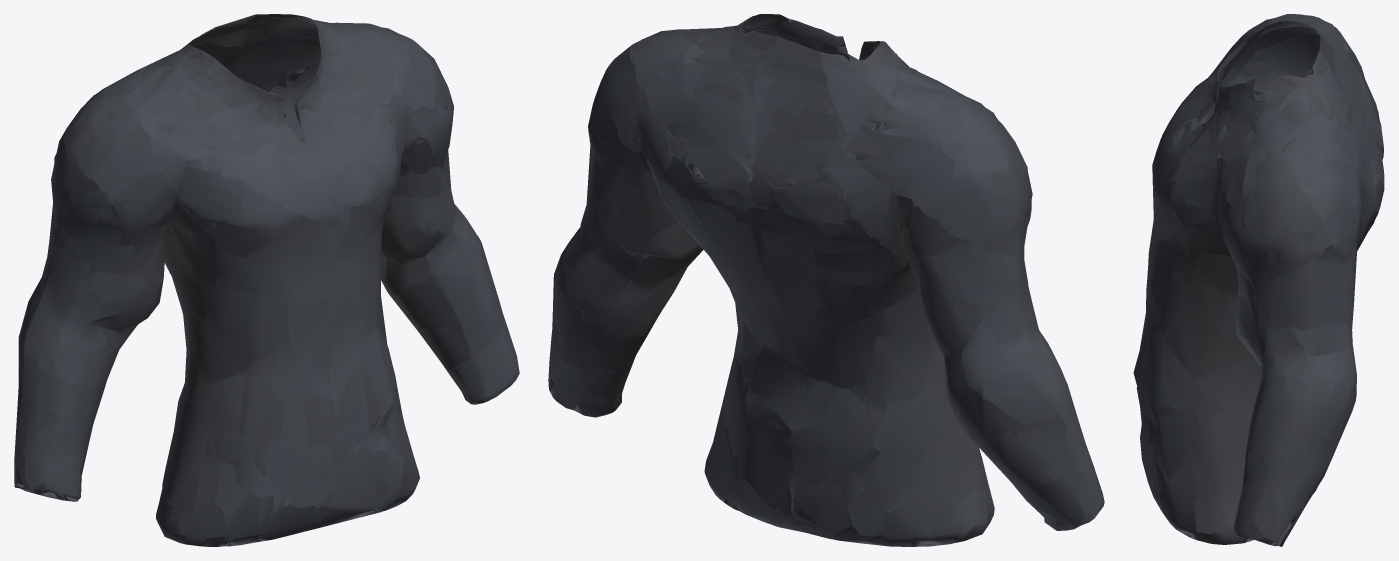
File: tunic.glb
3 views of the same model, side by side, from view 1: azimuth 30°, elevation 25°; view 2: azimuth 150°, elevation 25°; view 3: azimuth 270°, elevation 25° (orthographic). The views are drawn at different scales.
Visible parts, largest first — view 1: Module_fisherman_tunic_left_0; view 2: Module_fisherman_tunic_left_0; view 3: Module_fisherman_tunic_left_0.
Boxes of the visible parts, x1,y1,x2,y2 form: Module_fisherman_tunic_left_0: (14,14,519,546); Module_fisherman_tunic_left_0: (548,14,1104,546); Module_fisherman_tunic_left_0: (1133,14,1384,546).
Bounding box in the file's own units: 0.7688 × 0.6696 × 0.3434.
Materials: 1 (1 with a texture image).
